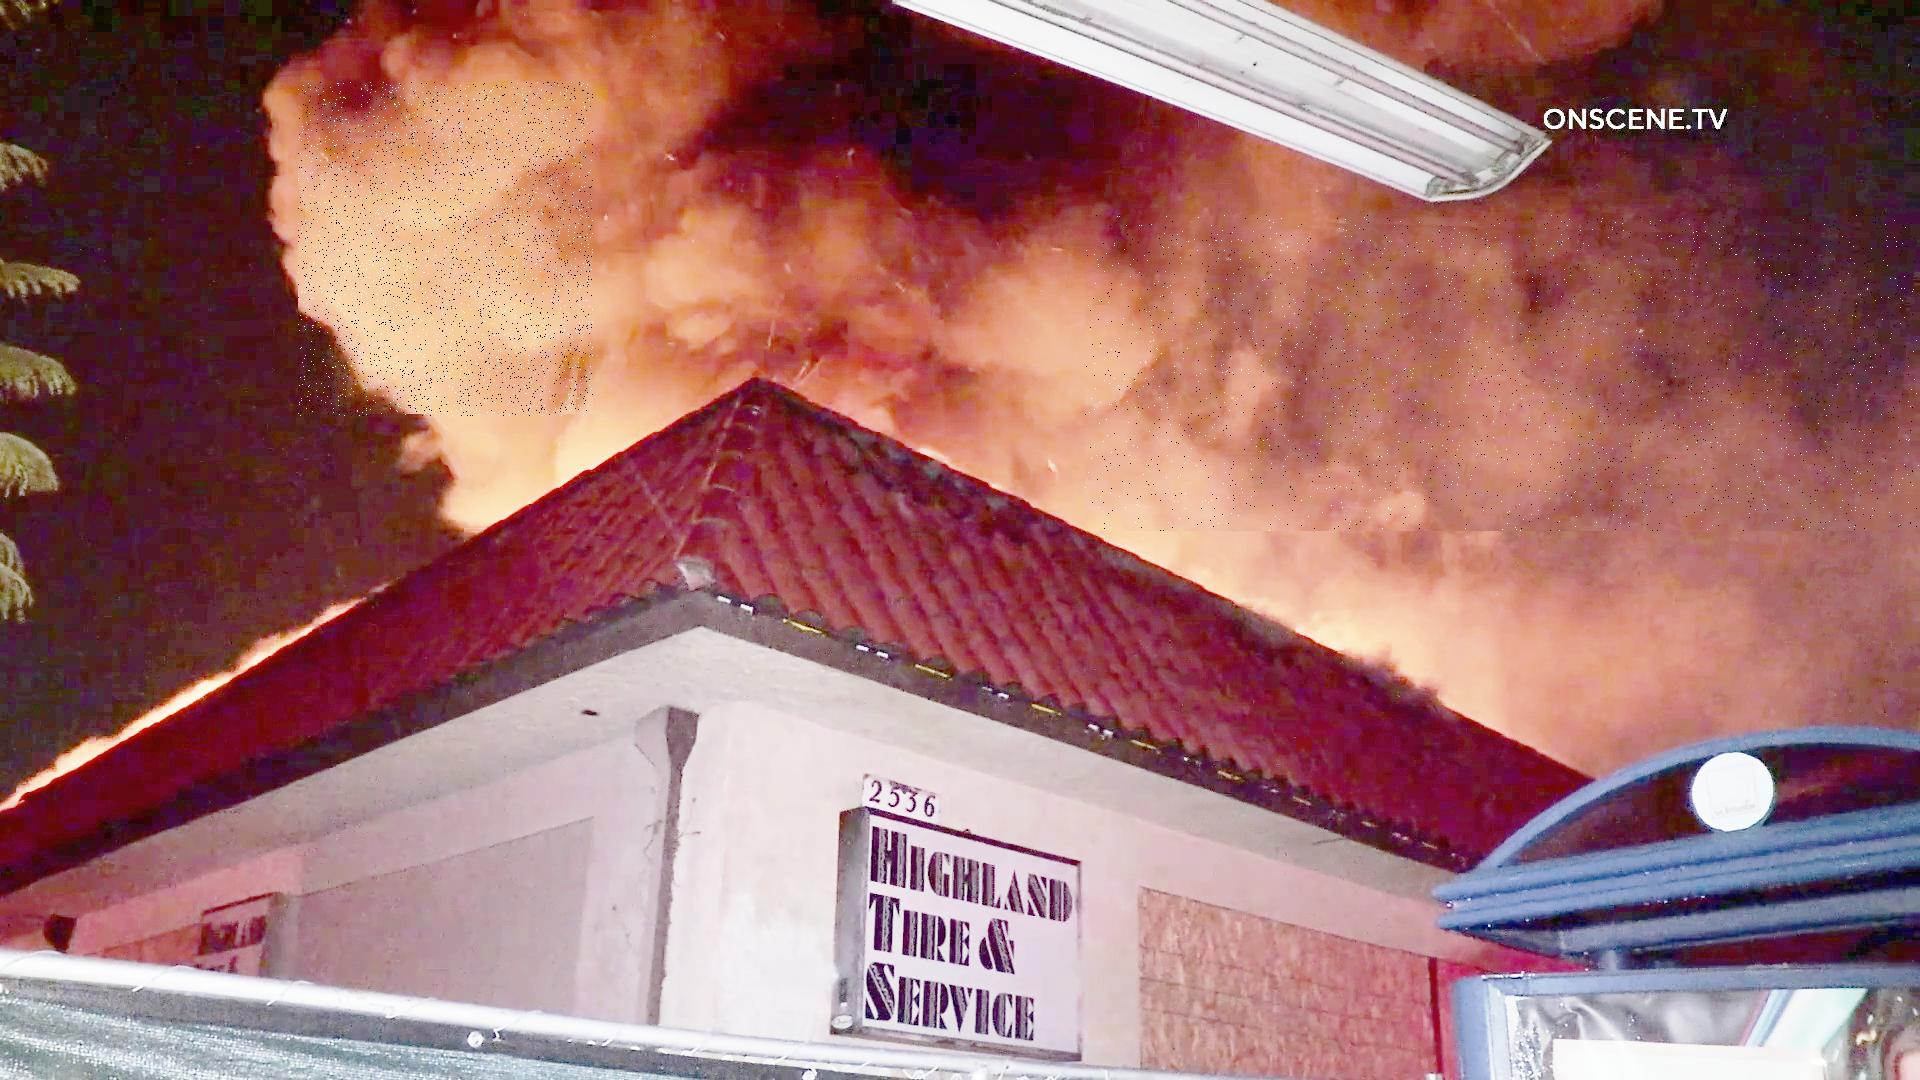smoke: (1085, 215, 1920, 531), (298, 83, 593, 417)
